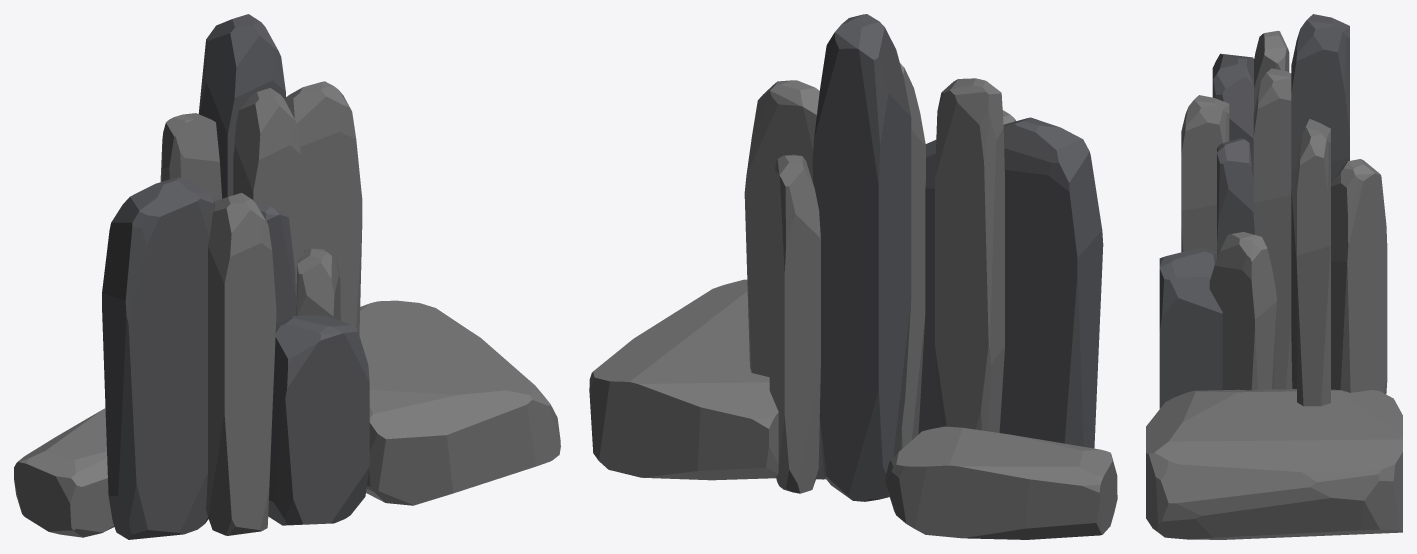
The model's file is rocks_02.glb.
3 renders of one model, left to right at view 1: azimuth 30°, elevation 25°; view 2: azimuth 150°, elevation 25°; view 3: azimuth 270°, elevation 25°, orthographic. The views are drawn at different scales.
Visible parts, largest first — view 1: rocks_02; view 2: rocks_02; view 3: rocks_02.
Part boxes in pixels (<box>): rocks_02: <box>14,14,560,539</box>; rocks_02: <box>589,14,1117,539</box>; rocks_02: <box>1146,14,1402,539</box>.
Size of the model in its own units: 4.46 by 4.1 by 2.25.
1 material, 1 textured.
